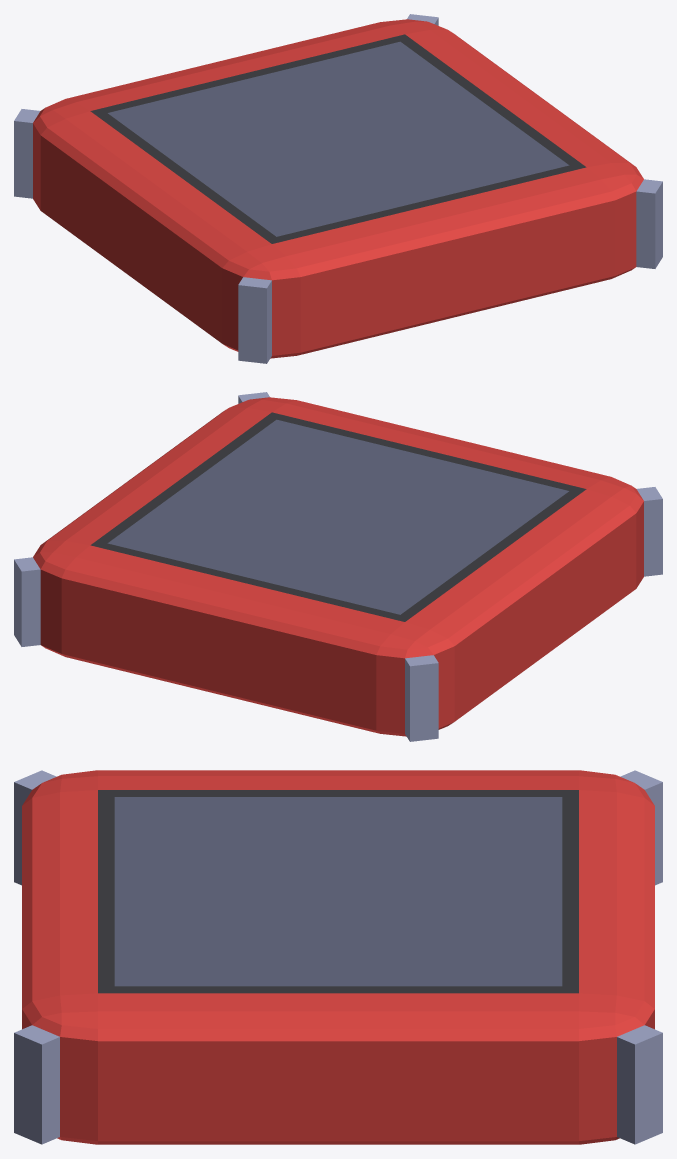
File: PlataformFalling.glb
3 views of the same model, one above another, from view 1: azimuth 30°, elevation 25°; view 2: azimuth 150°, elevation 25°; view 3: azimuth 270°, elevation 25° (orthographic). The views are drawn at different scales.
Parts seen in each view (by area): view 1: Cube; view 2: Cube; view 3: Cube.
Boxes of the visible parts, box(x1,y1,x2,y2) form: Cube: box(14, 14, 662, 363); Cube: box(14, 392, 662, 741); Cube: box(14, 770, 662, 1144).
Bounding box in the file's own units: 6.51 × 1.46 × 6.51.
